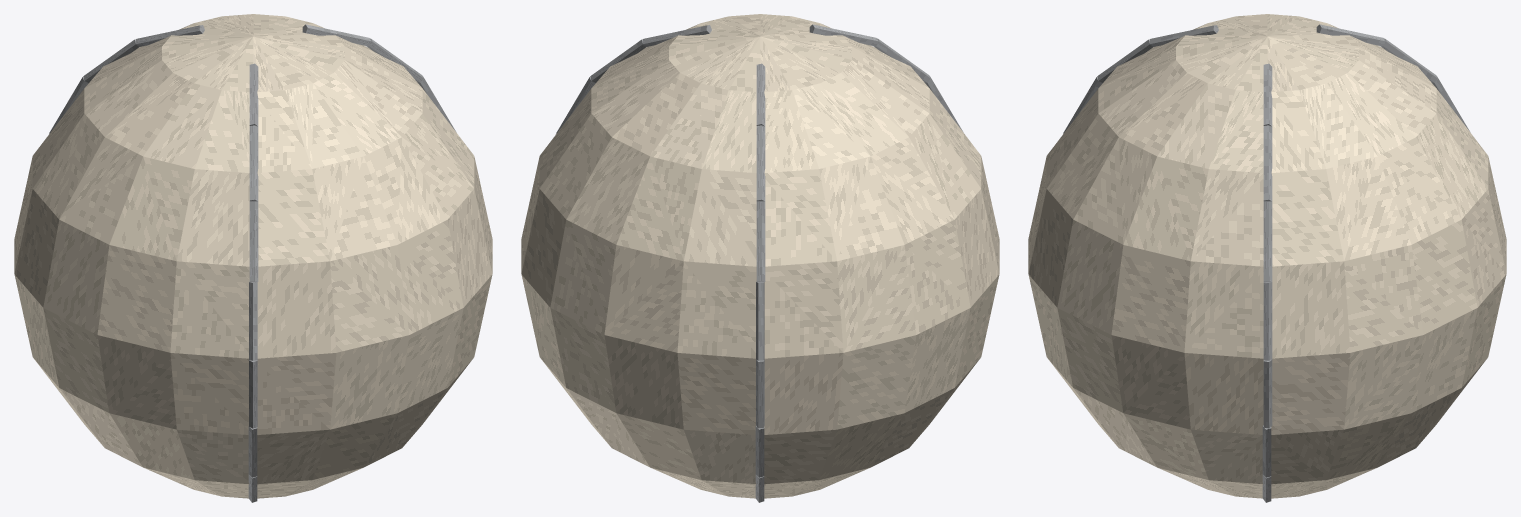
File: indoor_volleyball.glb
3 renders of one model, left to right at view 1: azimuth 30°, elevation 25°; view 2: azimuth 150°, elevation 25°; view 3: azimuth 270°, elevation 25°, orthographic.
Parts seen in each view (by area): view 1: block_regulation volleyball, block_stitched panel seam 0 (×3), block_stitched panel seam 2, block_stitched panel seam 1, block_stitched panel seam 3, block_stitched panel seam 4; view 2: block_regulation volleyball, block_stitched panel seam 0 (×3), block_stitched panel seam 2, block_stitched panel seam 1, block_stitched panel seam 3, block_stitched panel seam 4; view 3: block_regulation volleyball, block_stitched panel seam 0 (×3), block_stitched panel seam 2, block_stitched panel seam 3, block_stitched panel seam 1, block_stitched panel seam 4.
Part boxes in pixels (<box>): block_regulation volleyball: <box>14,14,492,498</box>; block_stitched panel seam 0 (×3): <box>135,24,371,126</box>; block_stitched panel seam 2: <box>249,201,258,281</box>; block_stitched panel seam 1: <box>249,125,258,201</box>; block_stitched panel seam 3: <box>249,282,257,360</box>; block_stitched panel seam 4: <box>249,360,257,428</box>; block_regulation volleyball: <box>521,14,999,498</box>; block_stitched panel seam 0 (×3): <box>642,24,878,126</box>; block_stitched panel seam 2: <box>756,201,765,281</box>; block_stitched panel seam 1: <box>756,125,765,201</box>; block_stitched panel seam 3: <box>756,281,764,360</box>; block_stitched panel seam 4: <box>756,359,764,428</box>; block_regulation volleyball: <box>1028,14,1506,498</box>; block_stitched panel seam 0 (×3): <box>1149,24,1385,126</box>; block_stitched panel seam 2: <box>1263,201,1272,281</box>; block_stitched panel seam 3: <box>1263,282,1272,360</box>; block_stitched panel seam 1: <box>1263,125,1272,201</box>; block_stitched panel seam 4: <box>1263,360,1272,428</box>.
Size of the model in its own units: 0.26 by 0.2567 by 0.2528.
1 material, 1 textured.
